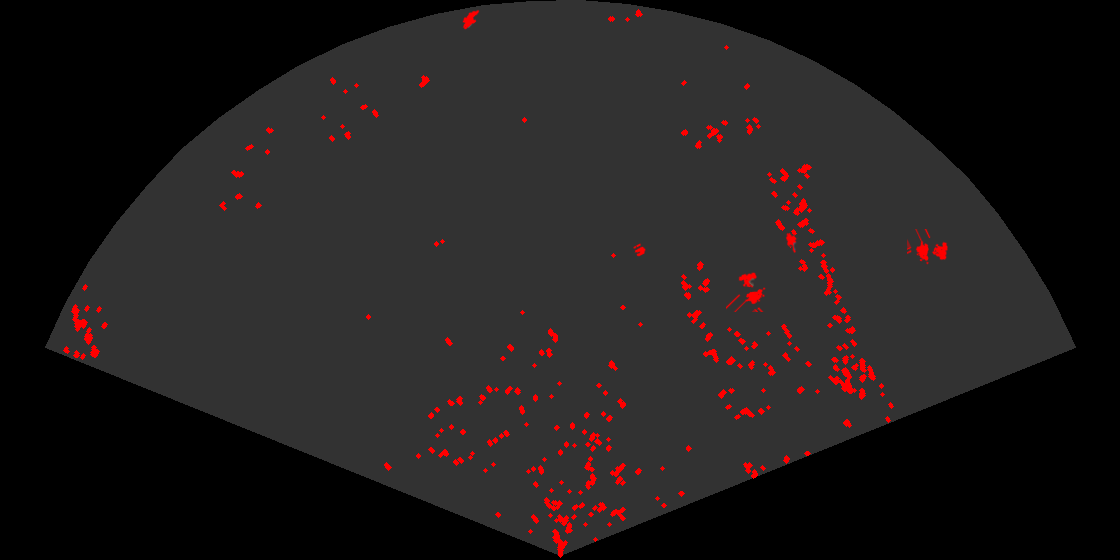AUV: (461, 8, 481, 31), (784, 231, 799, 255)
ball: (632, 242, 647, 258)
cage: (726, 271, 767, 312), (907, 229, 949, 266)
